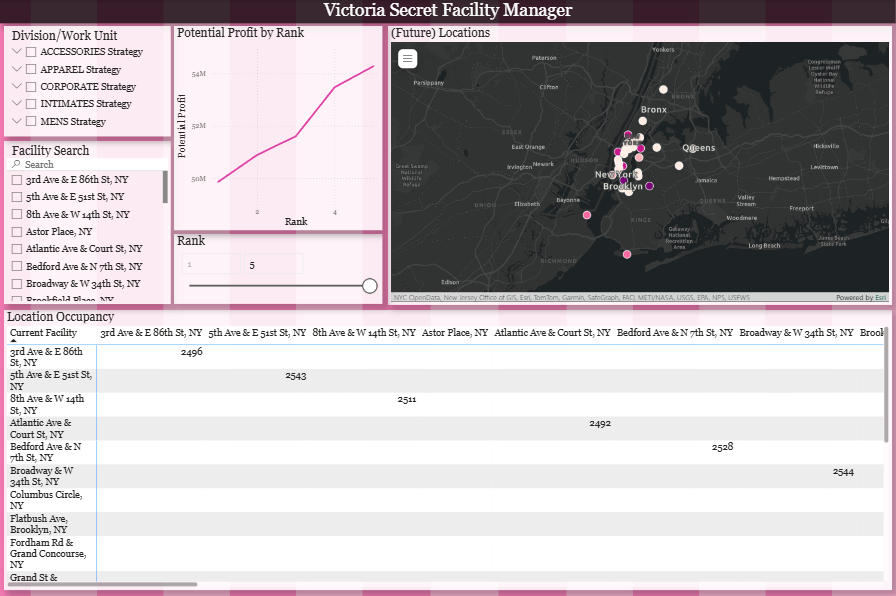

What the dashboard file says about the page in this screenshot:
{"tool":"powerbi","page":{"name":"Matrix","canvas":[1500,998],"ordinal":0},"visuals":[{"type":"textbox","title":"Victoria Secret Facility Manager","box":[0,0,1500,38.6],"z":0},{"type":"pivotTable","title":"Location Occupancy","fields":{"Columns":["FACILITIES Future.SiteAddress"],"Values":["Unified Matrix Rows.Final Matrix Value"],"Rows":["Unified Matrix Rows.SiteAddress"]},"box":[6.7,519.1,1487,468.9],"z":1000},{"type":"slicer","fields":{"Values":["FACILITIES Future.SiteAddress"]},"box":[6.7,236.6,278.5,273.5],"z":2000},{"type":"slicer","fields":{"Values":["WORK UNIT.SubDivision","WORK UNIT.Department"]},"box":[6.7,43.6,278.5,184.6],"z":3000},{"type":"esriVisual","title":"(Future) Locations","fields":{"Latitude":["Store_Locations.Lat"],"Longitude":["Store_Locations.Long"],"Color":["Sum(Store_Locations.Rank)"]},"box":[649.7,43.5,843.9,467.2],"z":4000},{"type":"slicer","title":"Rank","fields":{"Values":["Store_Locations.Rank"]},"box":[291.9,392.6,349,117.4],"z":4001},{"type":"lineChart","fields":{"Category":["Store_Locations.Rank"],"Y":["Store_Locations.Cumulative Potential Profit"]},"box":[291.9,43.6,349,342.3],"z":4002}]}

Visuals, with their boxes in screenshot pixels (x1, y1, x2, y2), scaled from the page's 1500x998 canvas onto the 896x596 screenshot:
"Victoria Secret Facility Manager" textbox: <box>0,0,895,23</box>
"Location Occupancy" pivotTable: <box>4,310,892,590</box>
slicer - FACILITIES Future.SiteAddress: <box>4,141,170,305</box>
slicer - WORK UNIT.SubDivision x WORK UNIT.Department: <box>4,26,170,136</box>
"(Future) Locations" esriVisual: <box>388,26,892,305</box>
"Rank" slicer: <box>174,234,383,305</box>
lineChart - Store_Locations.Rank x Store_Locations.Cumulative Potential Profit: <box>174,26,383,230</box>
